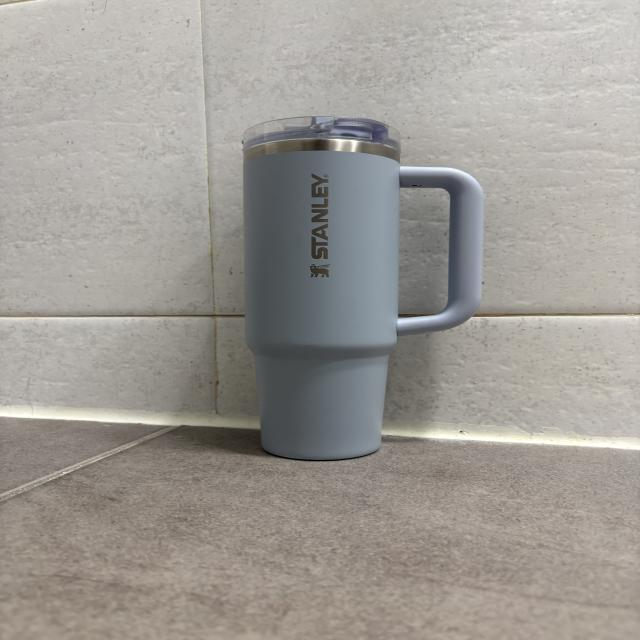waterbottle: (243, 114, 482, 463)
